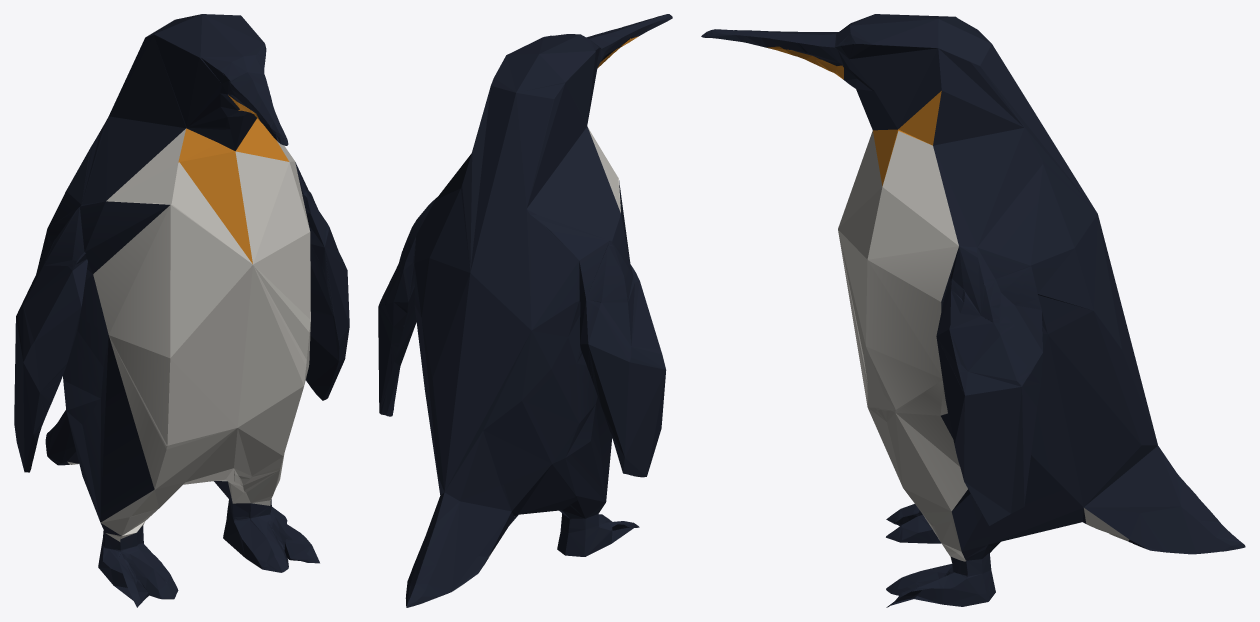
File: penguin.glb
3 renders of one model, left to right at view 1: azimuth 30°, elevation 25°; view 2: azimuth 150°, elevation 25°; view 3: azimuth 270°, elevation 25°, orthographic. The views are drawn at different scales.
Parts seen in each view (by area): view 1: model; view 2: model; view 3: model.
Part boxes in pixels (x1,y1,x2,y2): model: (14,14,349,607); model: (378,14,672,607); model: (701,14,1245,607).
Bounding box in the file's own units: 0.8154 × 1.33 × 1.21.
